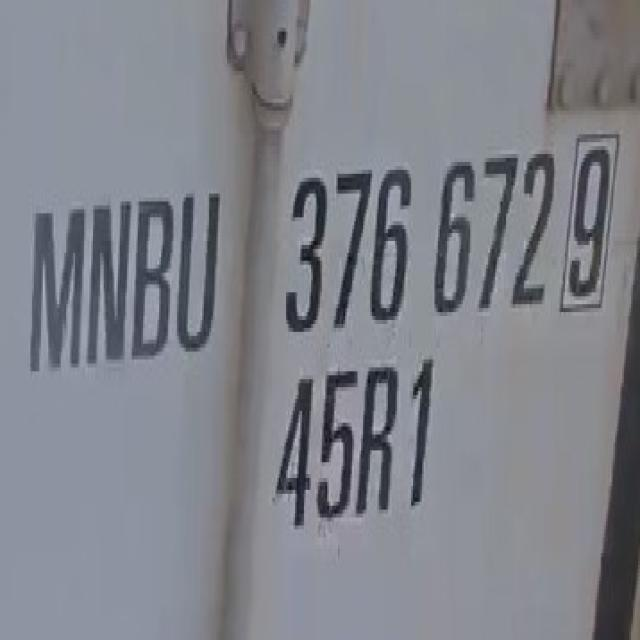dv: (560, 130, 626, 328)
owner: (25, 170, 228, 384)
serial: (280, 133, 553, 341)
size: (263, 345, 441, 541)
